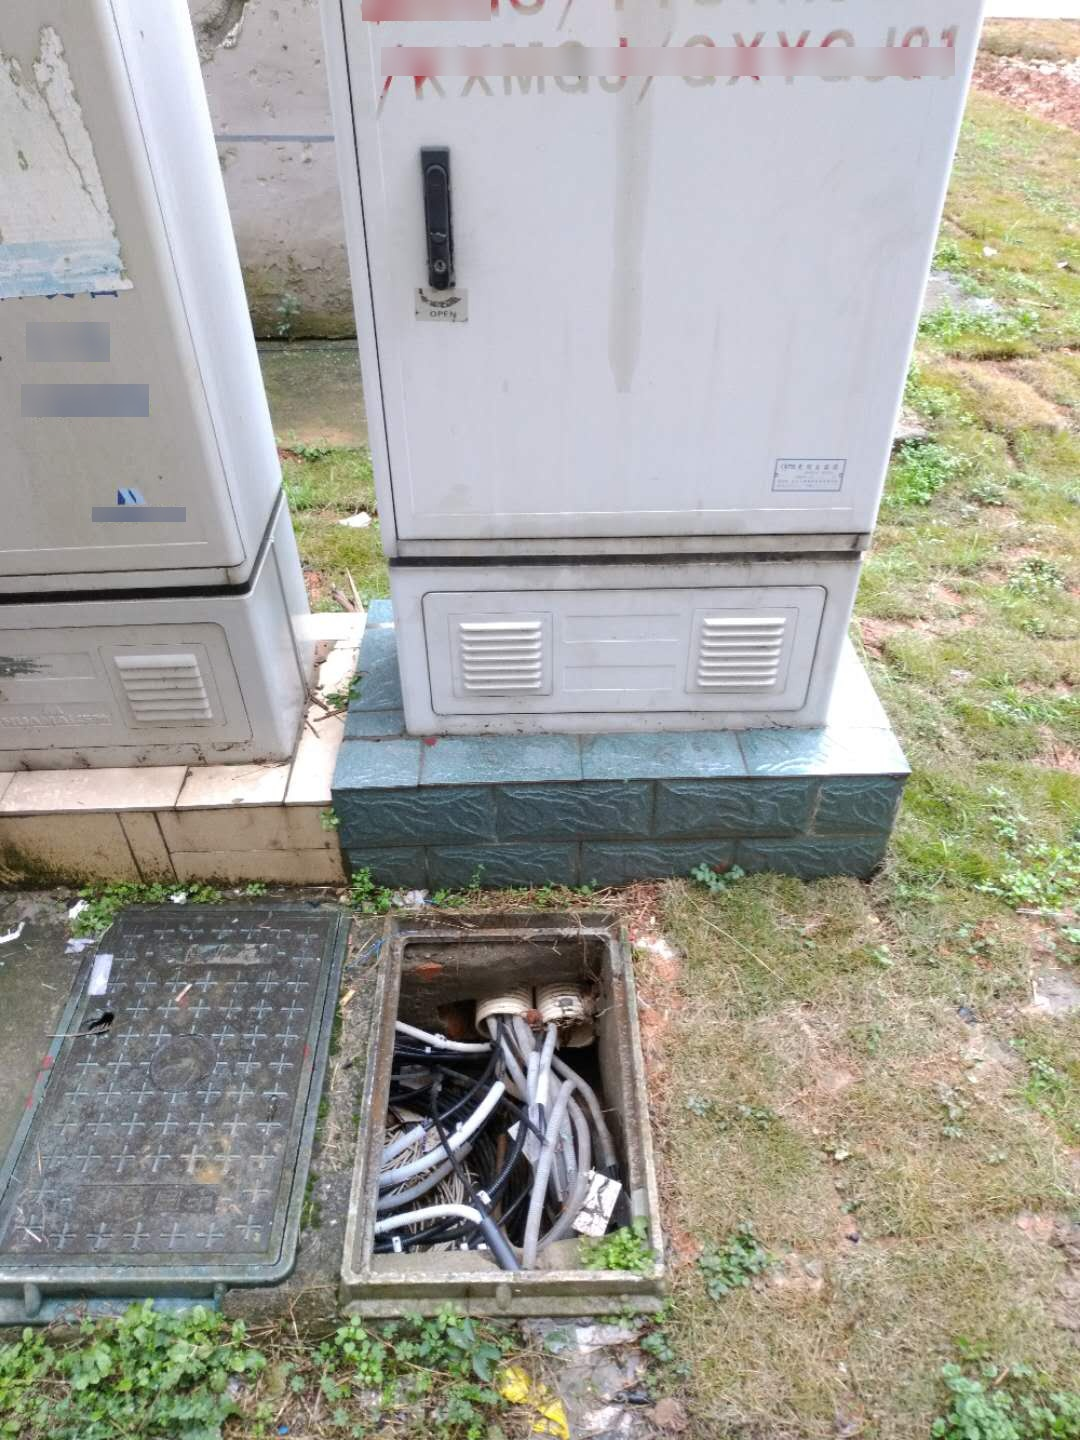good: (8, 903, 344, 1319)
lose: (339, 927, 672, 1321)
